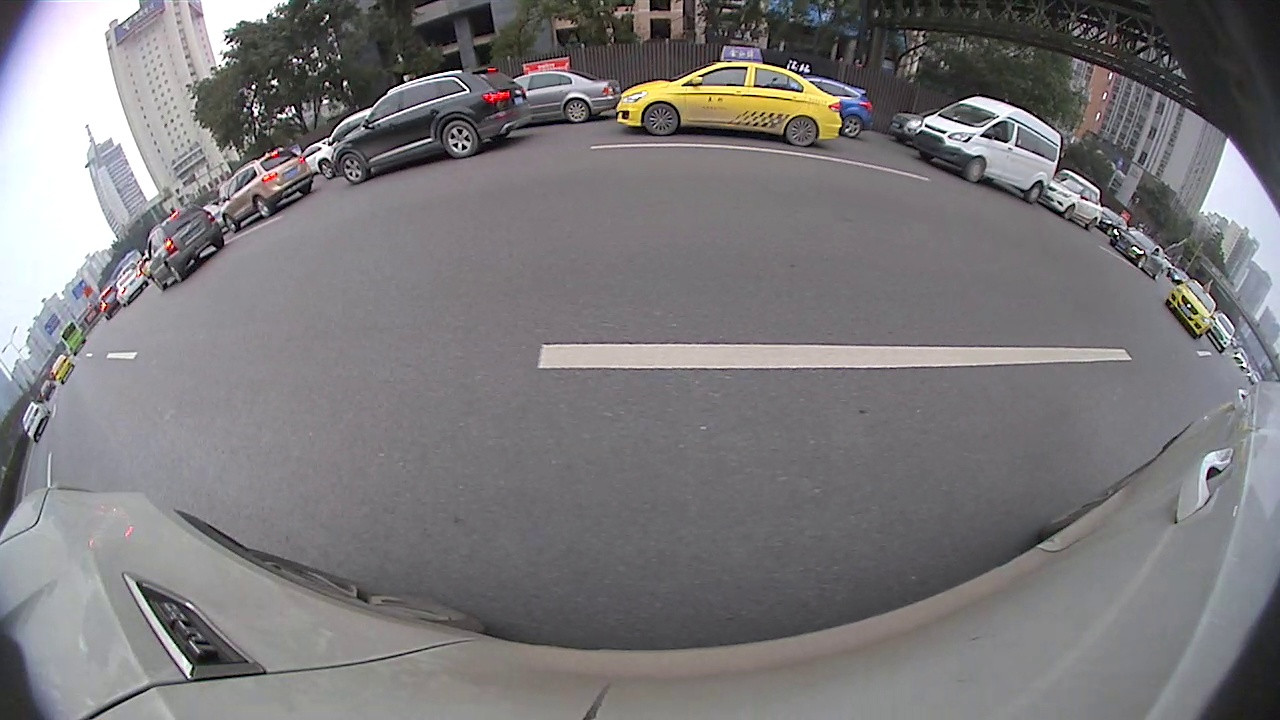car: (333, 68, 533, 183), (616, 58, 844, 148), (912, 97, 1062, 204), (221, 148, 314, 233), (145, 206, 225, 292), (512, 69, 619, 123), (802, 75, 874, 139), (1038, 169, 1103, 232), (1109, 226, 1168, 281), (1166, 279, 1218, 340), (889, 106, 946, 146), (114, 267, 150, 309), (21, 402, 51, 443), (1207, 311, 1237, 352)
front: (645, 105, 679, 134), (338, 158, 368, 182), (965, 158, 987, 181), (317, 159, 333, 178), (223, 215, 238, 231), (1063, 203, 1075, 219), (1137, 254, 1147, 267)
rear: (444, 123, 478, 155), (788, 117, 817, 146), (563, 100, 590, 122), (1027, 183, 1043, 204), (843, 118, 860, 137), (256, 197, 271, 215), (1085, 219, 1096, 232), (1154, 270, 1162, 279)
